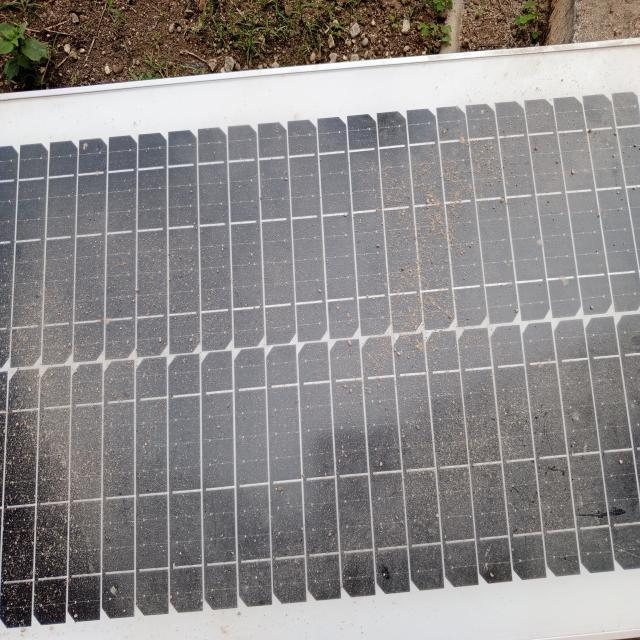Anomaly Solar Panel: (7, 119, 639, 608)
Surface Contaminant: (7, 119, 639, 608)
